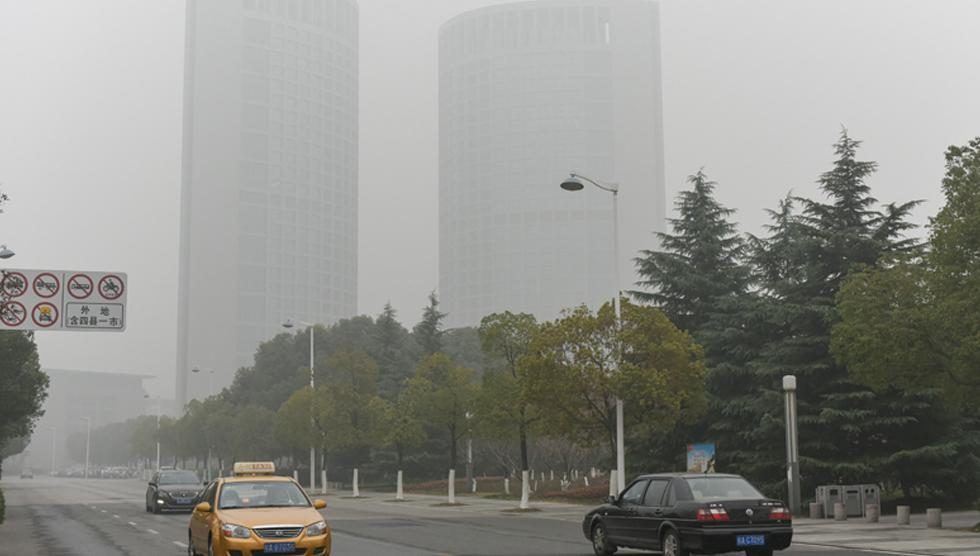car: (581, 470, 794, 556), (188, 461, 331, 556), (146, 470, 210, 514), (20, 468, 34, 479)
